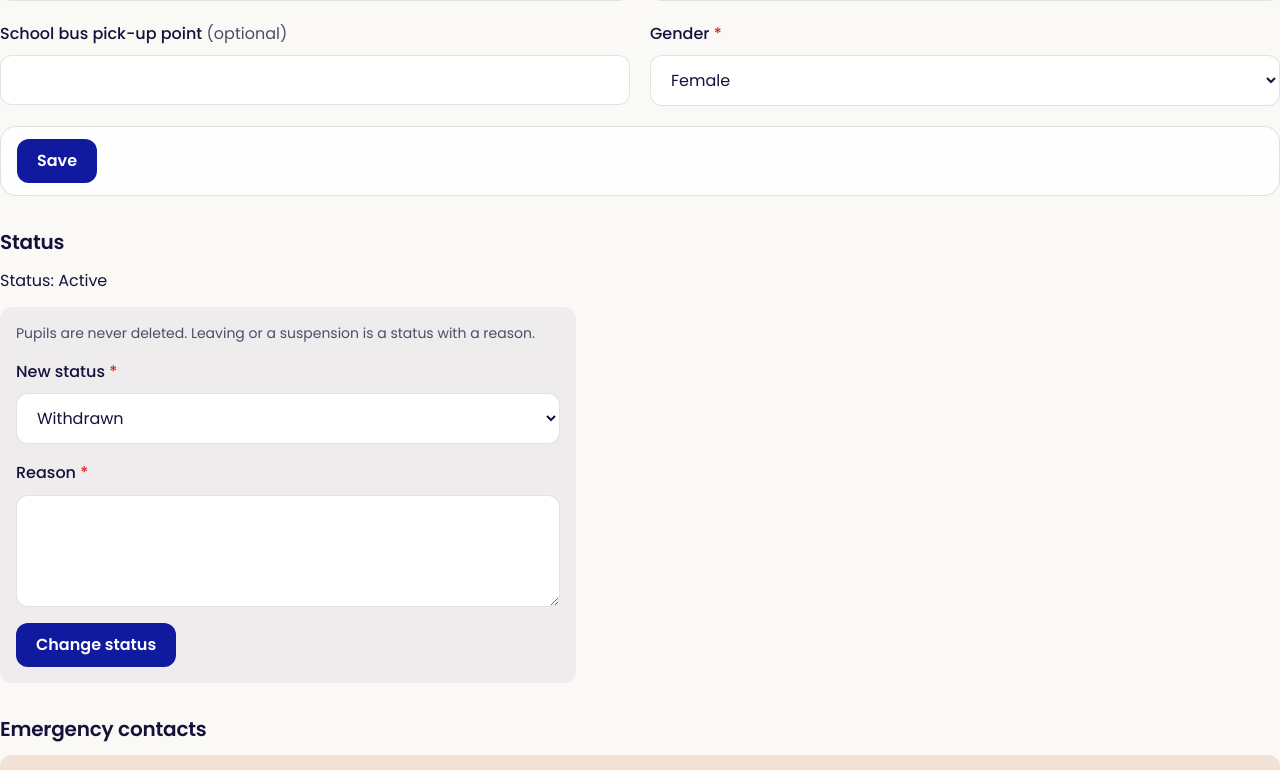
Scenario: PupilDetailView › changes the status with a reason
(page scrolled)
Select "Suspended" in the dropdown labelled "New status *" at (288, 419), box [16, 393, 560, 444]
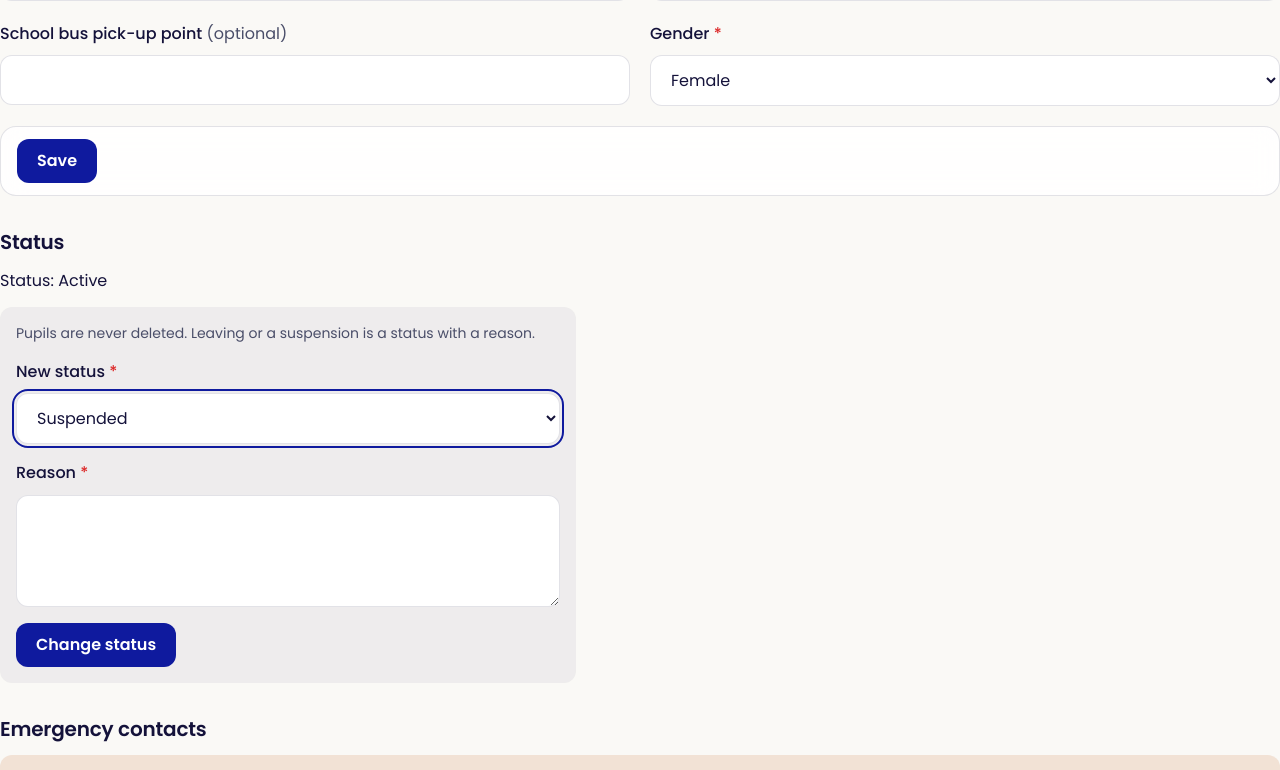
Click the button "Change status".
click(96, 644)  # box [16, 622, 176, 666]
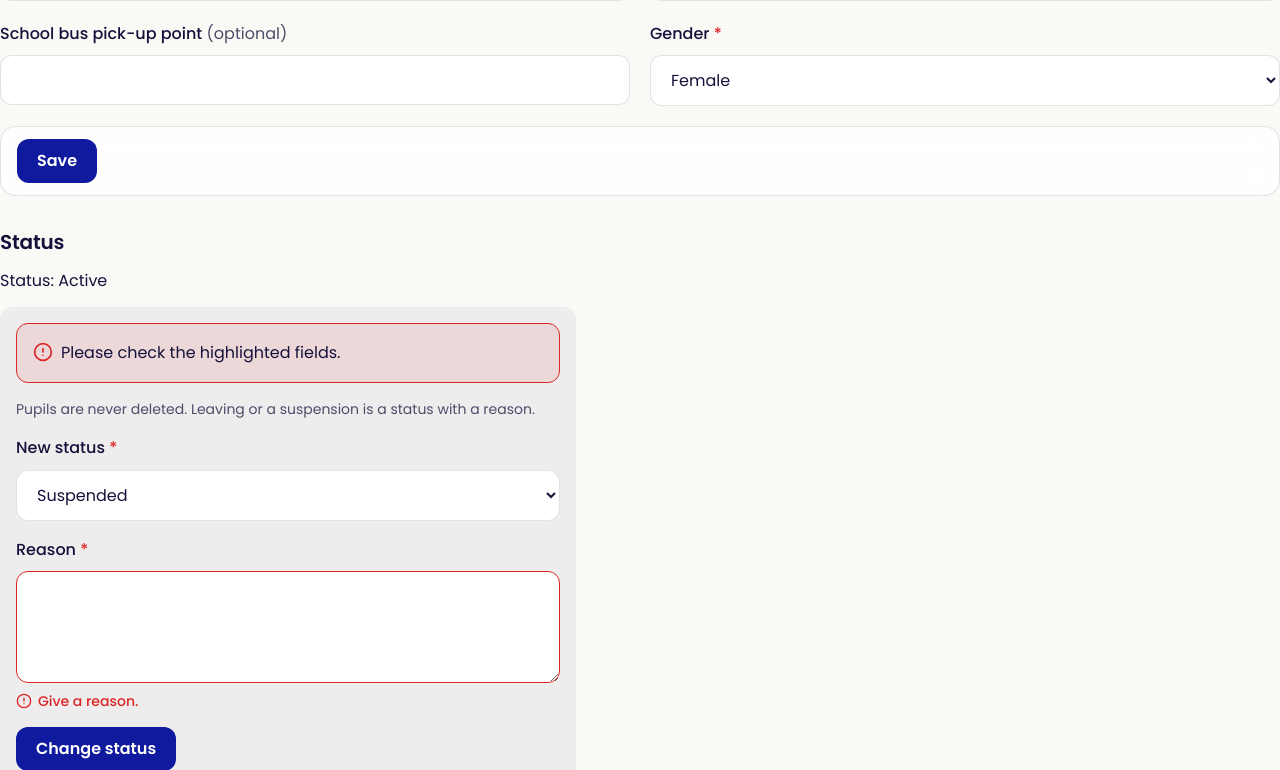
Now the text "Give a reason." is shown, box [16, 691, 138, 711]
Type "One week, fighting" into the text box labelled "Reason *".
click(288, 627); type("One week, fighting")  # box [16, 571, 560, 683]
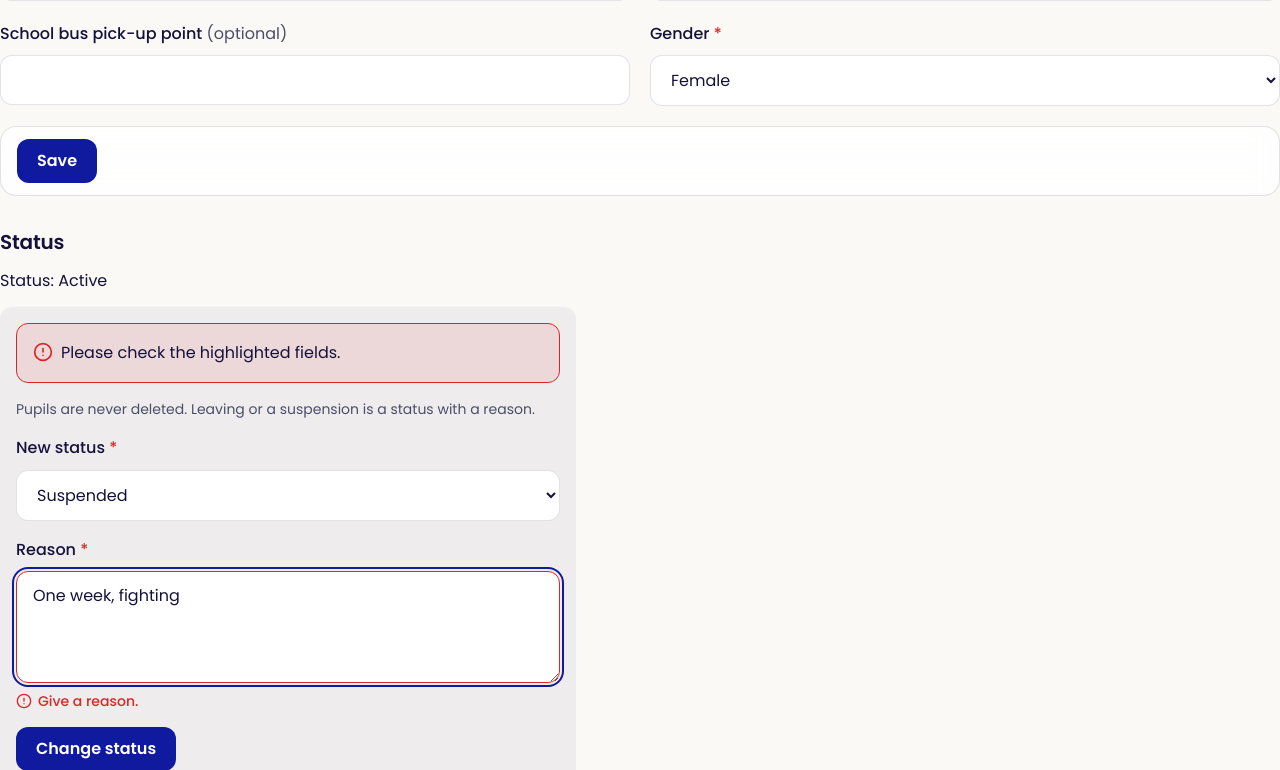
Click the button "Change status".
click(96, 749)  # box [16, 727, 176, 769]
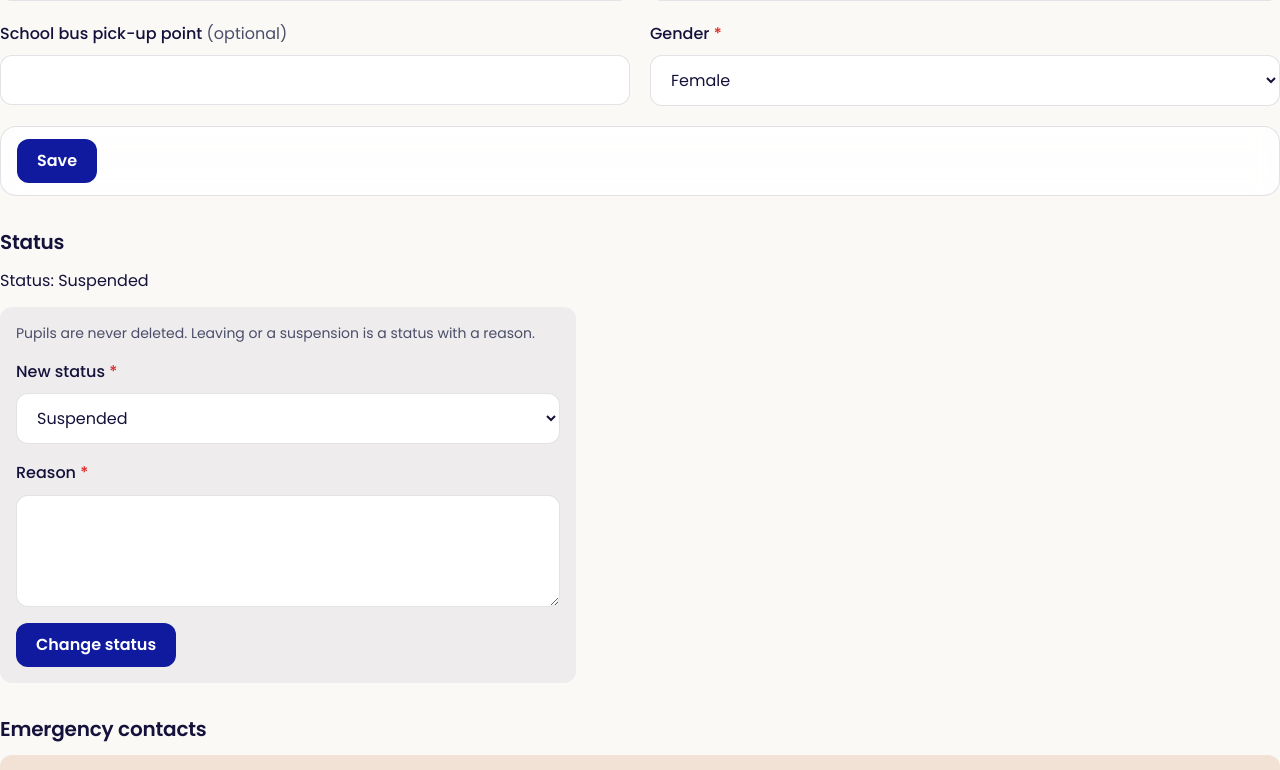
Now the text "Status: Suspended" is shown, box [0, 269, 149, 292]
